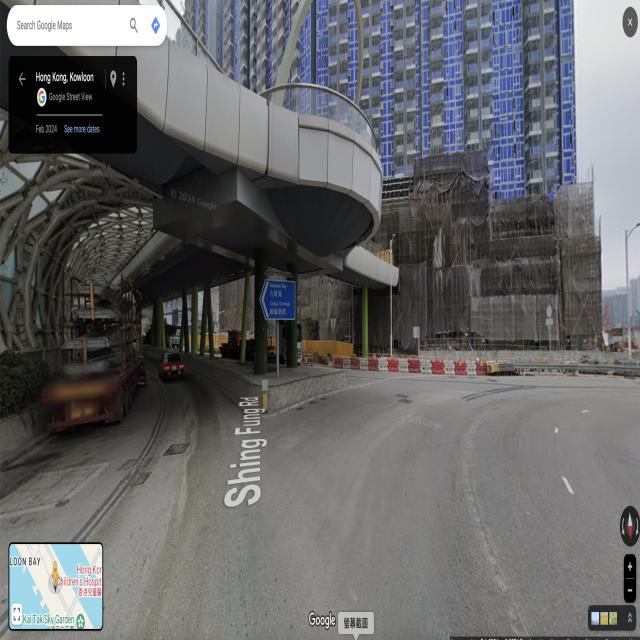Direction-Sign: (260, 280, 295, 320)
